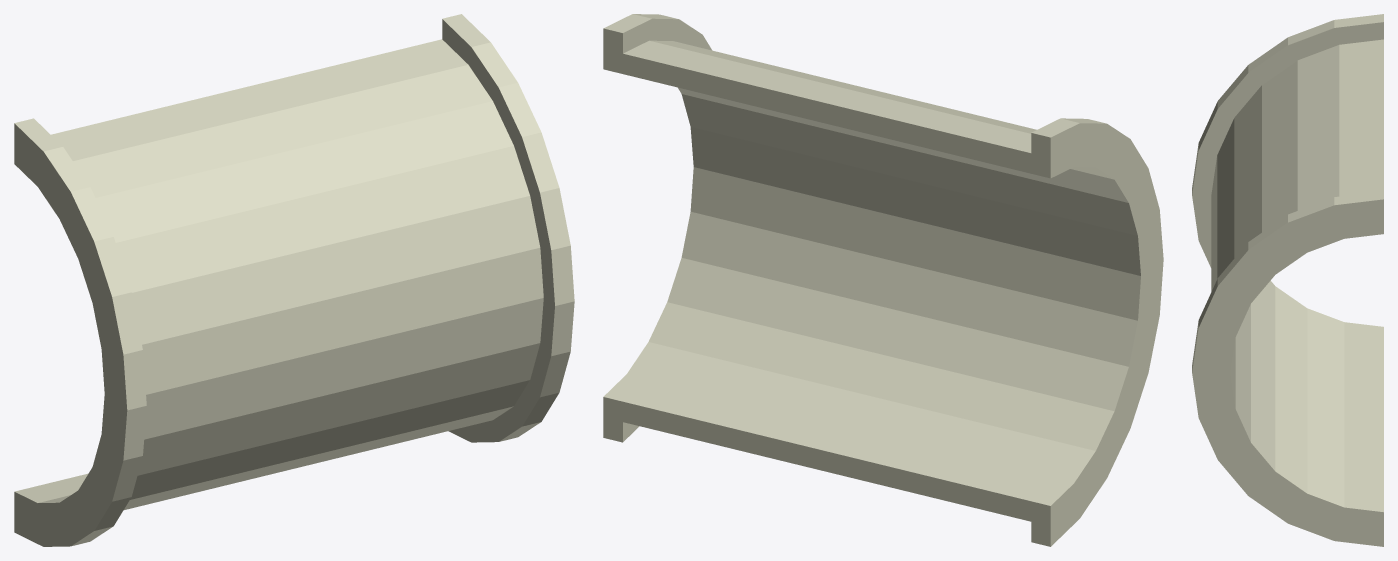
Rendered from section_241.obj.
3 renders of one model, left to right at view 1: azimuth 30°, elevation 25°; view 2: azimuth 150°, elevation 25°; view 3: azimuth 270°, elevation 25°, orthographic. The views are drawn at different scales.
Bounding box in the file's own units: 22.87 × 20 × 10.
